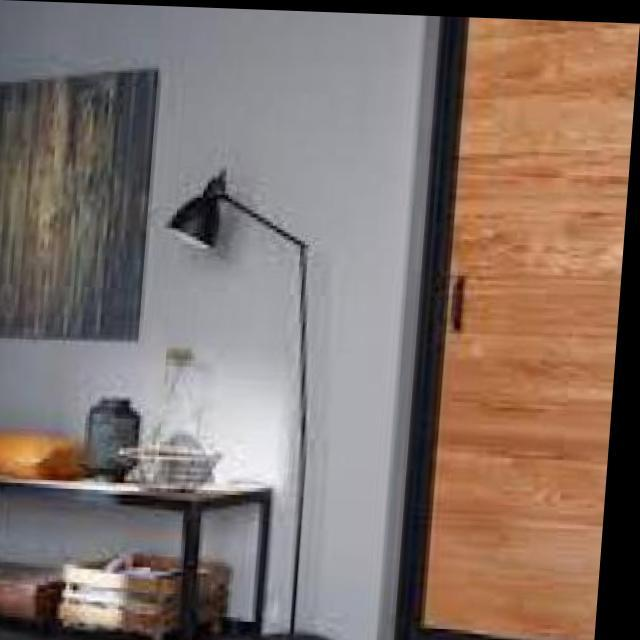door_handle: (448, 269, 484, 334)
